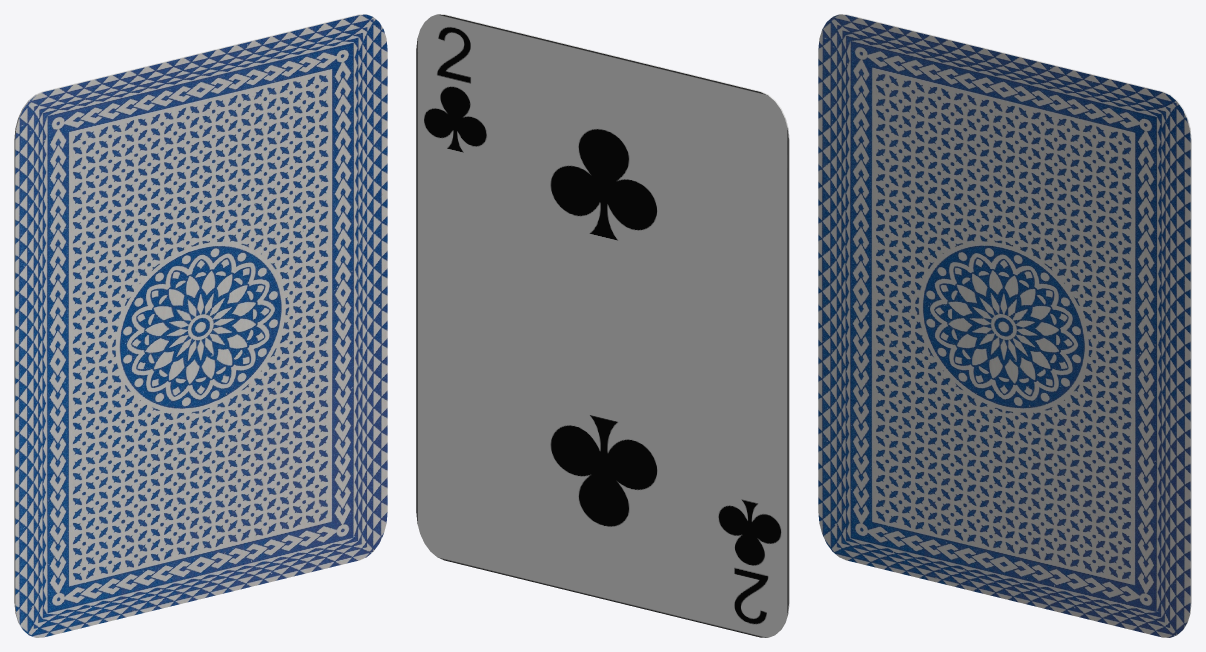
The model's file is GameCard.fbx.
3 views of the same model, side by side, from view 1: azimuth 30°, elevation 25°; view 2: azimuth 150°, elevation 25°; view 3: azimuth 330°, elevation 25° (orthographic).
Visible parts, largest first — view 1: Cube; view 2: Cube; view 3: Cube.
Boxes of the visible parts, left/top/right/bottom form: Cube: left=14, top=14, right=387, bottom=637; Cube: left=416, top=14, right=789, bottom=637; Cube: left=818, top=14, right=1191, bottom=637.
Bounding box in the file's own units: 500 × 700 × 2.
